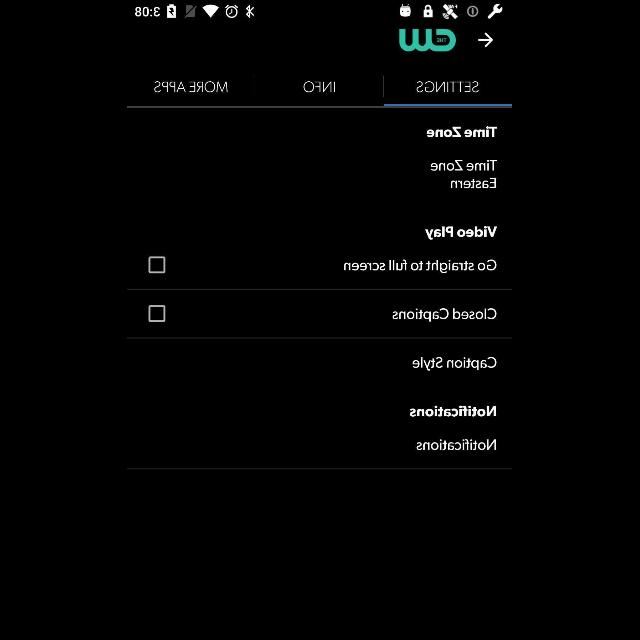checkbox: (149, 256, 167, 274), (149, 306, 167, 322)
icon: (478, 32, 494, 48)
image: (399, 28, 456, 52)
text: (344, 259, 498, 273), (393, 308, 497, 322), (413, 357, 497, 371), (410, 405, 498, 417), (425, 226, 497, 240), (417, 439, 497, 451), (155, 81, 229, 93), (428, 126, 498, 138), (430, 160, 498, 172), (417, 81, 479, 93), (451, 178, 497, 188), (304, 81, 336, 93)
uppertaskbar: (128, 1, 512, 23)
